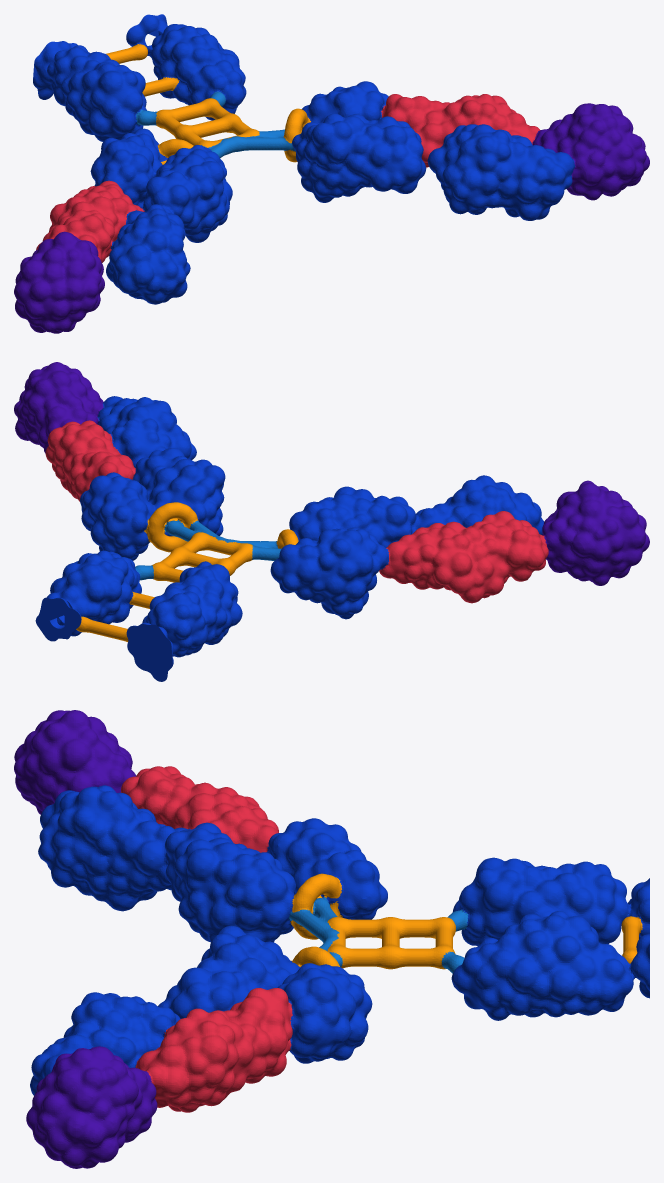
Rendered from IgG_part3_top.obj.
The picture shows the model from 3 angles, top to bottom: view 1: azimuth 30°, elevation 25°; view 2: azimuth 150°, elevation 25°; view 3: azimuth 270°, elevation 25°; orthographic projection. The views are drawn at different scales.
Parts seen in each view (by area): view 1: IgG_part3_top; view 2: IgG_part3_top; view 3: IgG_part3_top.
Part boxes in pixels (bbox=[...]): IgG_part3_top: bbox=[14, 14, 649, 333]; IgG_part3_top: bbox=[14, 362, 649, 681]; IgG_part3_top: bbox=[14, 710, 649, 1168].
Bounding box in the file's own units: 192 × 30.29 × 133.
